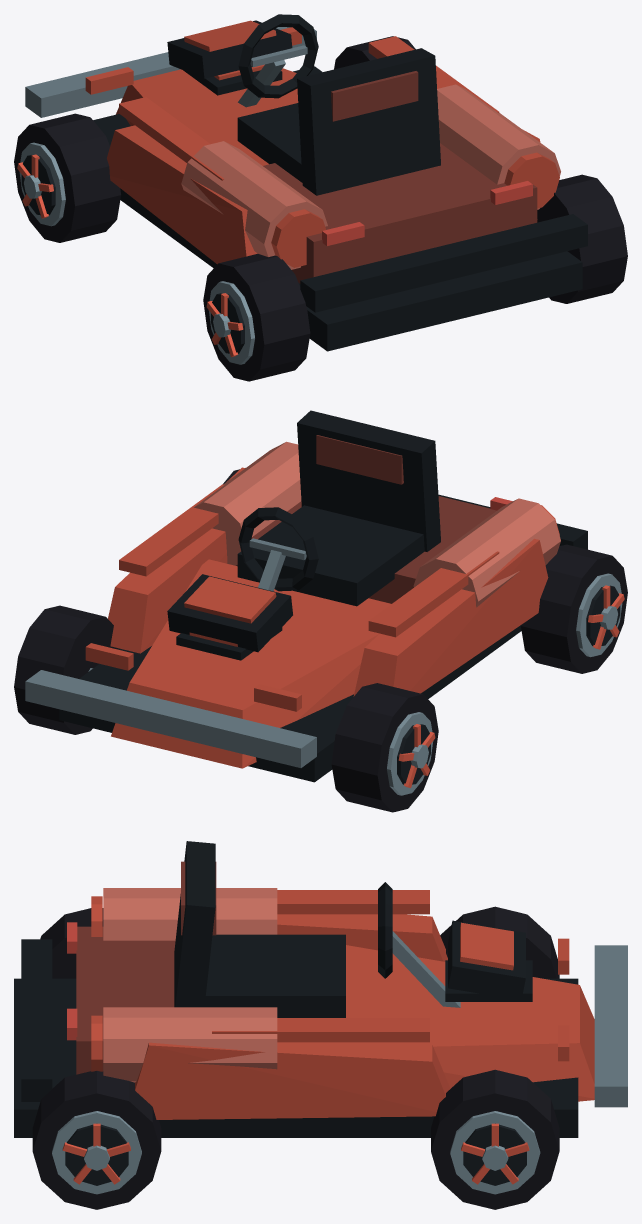
Rendered from kart.glb.
The picture shows the model from 3 angles, top to bottom: view 1: azimuth 30°, elevation 25°; view 2: azimuth 150°, elevation 25°; view 3: azimuth 270°, elevation 25°; orthographic projection. The views are drawn at different scales.
Visible parts, largest first — view 1: chassis, wheel-rear-left, wheel-front-left, wheel-rear-right, wheel-front-right; view 2: chassis, wheel-front-left, wheel-rear-left, wheel-front-right; view 3: chassis, wheel-front-right, wheel-rear-right, wheel-front-left, wheel-rear-left.
Boxes of the visible parts, box(x1,y1,x2,y2) form: chassis: box(25, 14, 587, 351); wheel-rear-left: box(203, 253, 310, 381); wheel-front-left: box(14, 113, 120, 242); wheel-rear-right: box(537, 174, 627, 303); wheel-front-right: box(334, 36, 415, 69); chassis: box(25, 410, 587, 782); wheel-front-left: box(331, 683, 438, 812); wheel-rear-left: box(521, 544, 627, 673); wheel-front-right: box(14, 605, 119, 734); chassis: box(14, 841, 627, 1137); wheel-front-right: box(431, 1069, 559, 1209); wheel-rear-right: box(32, 1071, 161, 1209); wheel-front-left: box(440, 906, 559, 978); wheel-rear-left: box(40, 908, 103, 978).
Size of the model in its own units: 2.3 by 1.3 by 2.96.
